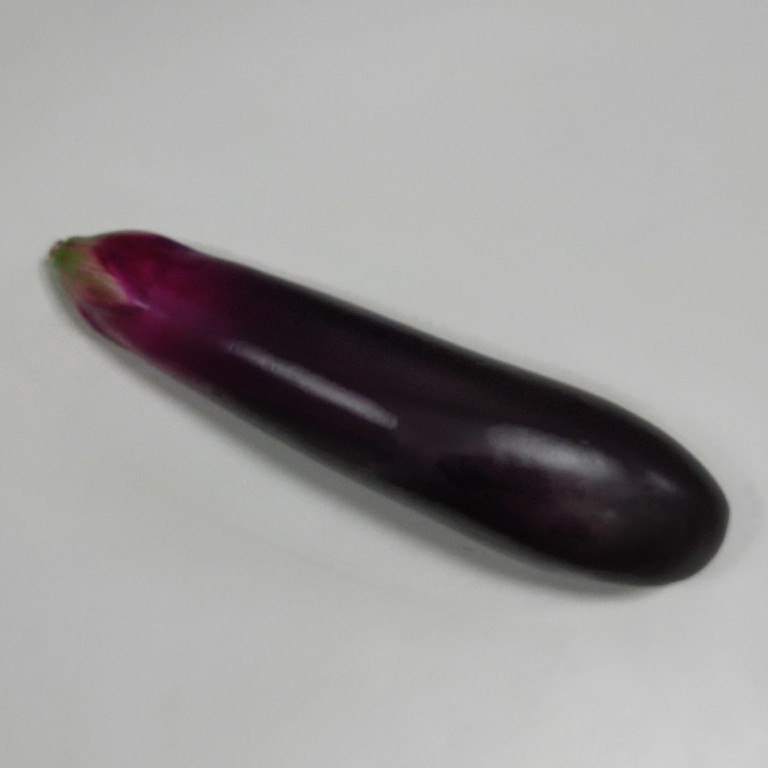fruit_eggplant: (40, 223, 742, 596)
